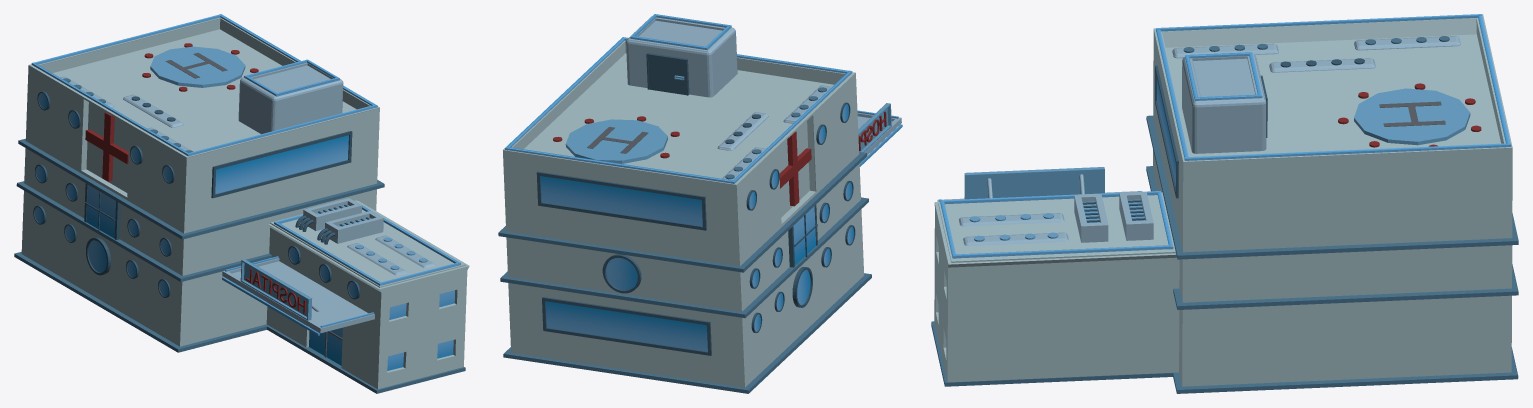
File: node_lev3.glb
The picture shows the model from 3 angles, left to right: view 1: azimuth 30°, elevation 25°; view 2: azimuth 150°, elevation 25°; view 3: azimuth 270°, elevation 25°; orthographic projection. The views are drawn at different scales.
Visible parts, largest first — view 1: node_lev3; view 2: node_lev3; view 3: node_lev3.
Part boxes in pixels (x1,y1,x2,y2): node_lev3: (14, 14, 469, 393); node_lev3: (498, 14, 902, 393); node_lev3: (931, 14, 1518, 393).
Size of the model in its own units: 9.44 by 8.4 by 16.06.
1 material, 1 textured.
